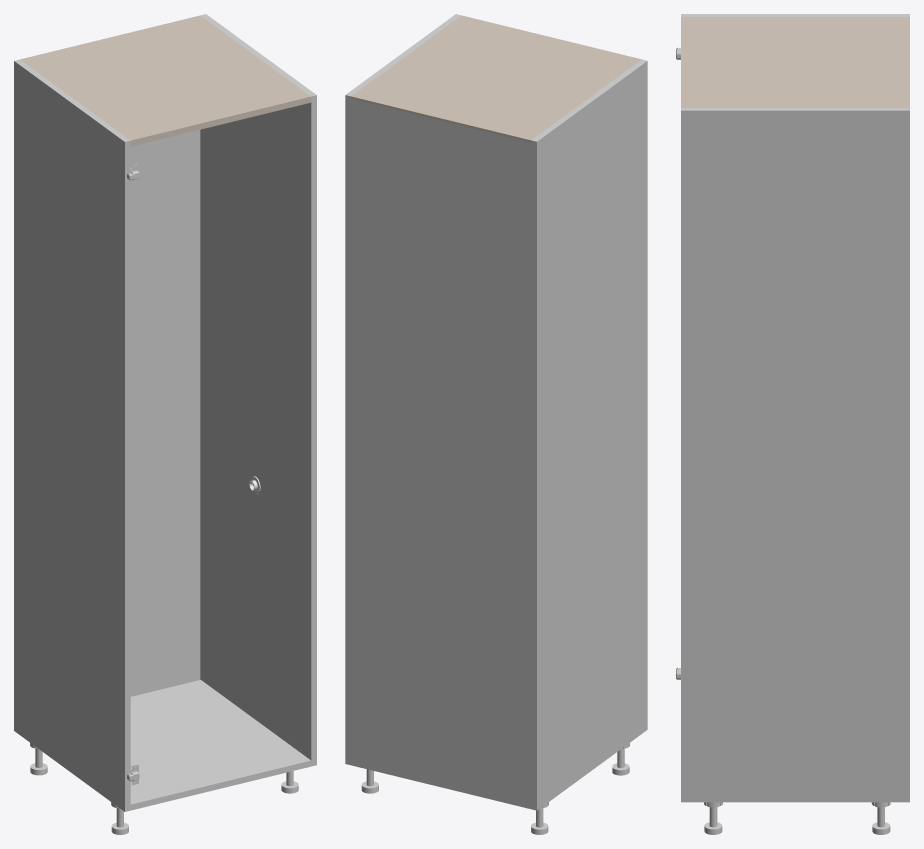
The model's file is SZAFA1.glb.
3 views of the same model, side by side, from view 1: azimuth 30°, elevation 25°; view 2: azimuth 150°, elevation 25°; view 3: azimuth 270°, elevation 25° (orthographic). The views are drawn at different scales.
Parts seen in each view (by area): view 1: szafa babilon.001, szafa babilon.002, szafa babilon.009, szafa babilon.004, szafa babilon.003; view 2: szafa babilon.009, szafa babilon.001, szafa babilon.004, szafa babilon.002; view 3: szafa babilon.002, szafa babilon.004, szafa babilon.001.
Boxes of the visible parts, x1,y1,x2,y2 form: szafa babilon.001: (14,59,130,811); szafa babilon.002: (200,14,316,766); szafa babilon.009: (130,130,200,696); szafa babilon.004: (20,15,311,146); szafa babilon.003: (130,680,311,810); szafa babilon.009: (347,98,534,807); szafa babilon.001: (531,59,647,810); szafa babilon.004: (351,15,641,142); szafa babilon.002: (345,14,461,765); szafa babilon.002: (681,108,909,802); szafa babilon.004: (681,17,909,107); szafa babilon.001: (681,14,909,16).
Bounding box in the file's own units: 0.6 × 2.1 × 0.6128.
